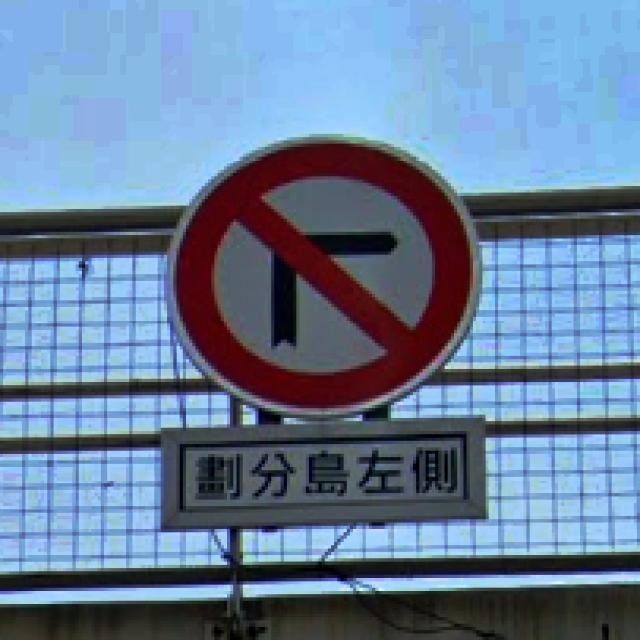noturnright: (161, 127, 482, 418)
